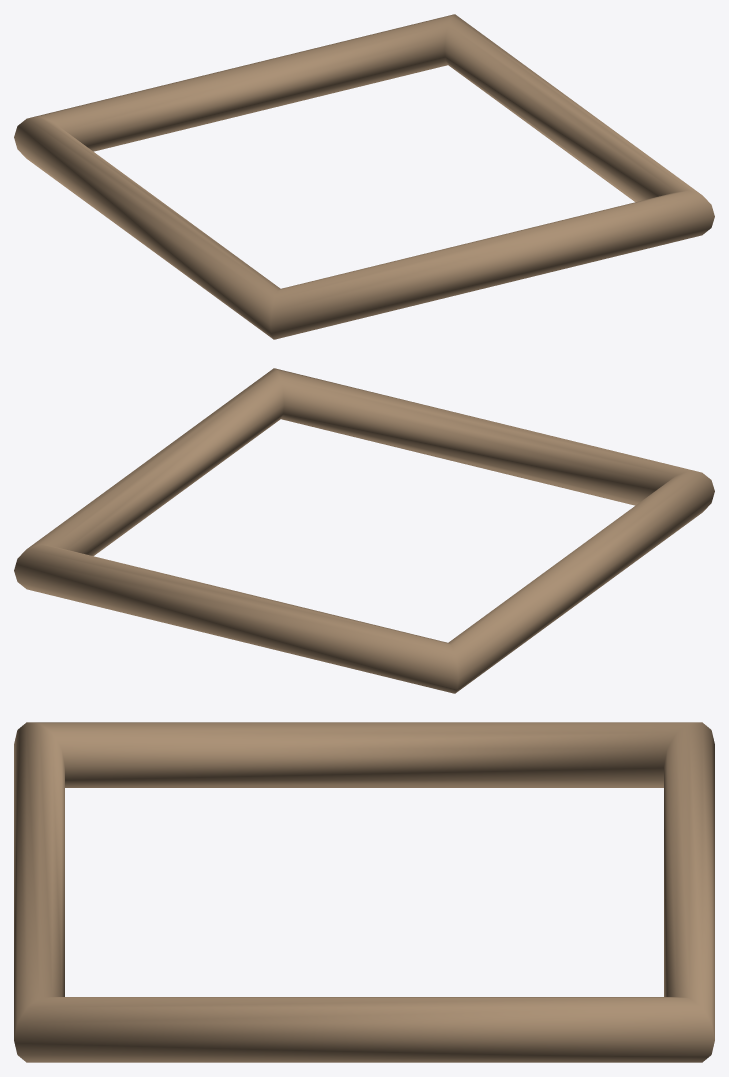
Rendered from ground_Bridge_Square_1x1_v01.glb.
The picture shows the model from 3 angles, top to bottom: view 1: azimuth 30°, elevation 25°; view 2: azimuth 150°, elevation 25°; view 3: azimuth 270°, elevation 25°; orthographic projection. The views are drawn at different scales.
Visible parts, largest first — view 1: Bridge_Square_1x1; view 2: Bridge_Square_1x1; view 3: Bridge_Square_1x1.
Boxes of the visible parts, <box> form: Bridge_Square_1x1: <box>14,14,714,339</box>; Bridge_Square_1x1: <box>14,368,714,693</box>; Bridge_Square_1x1: <box>14,722,714,1062</box>.
Size of the model in its own units: 1 by 0.1 by 1.
